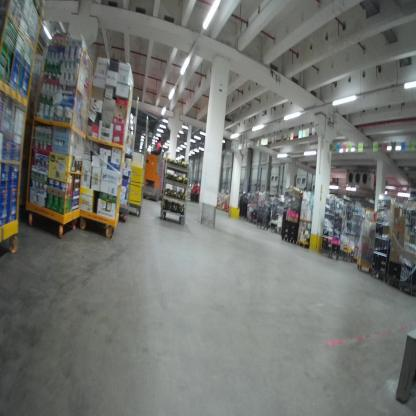pallet_truck: (139, 143, 168, 209)
